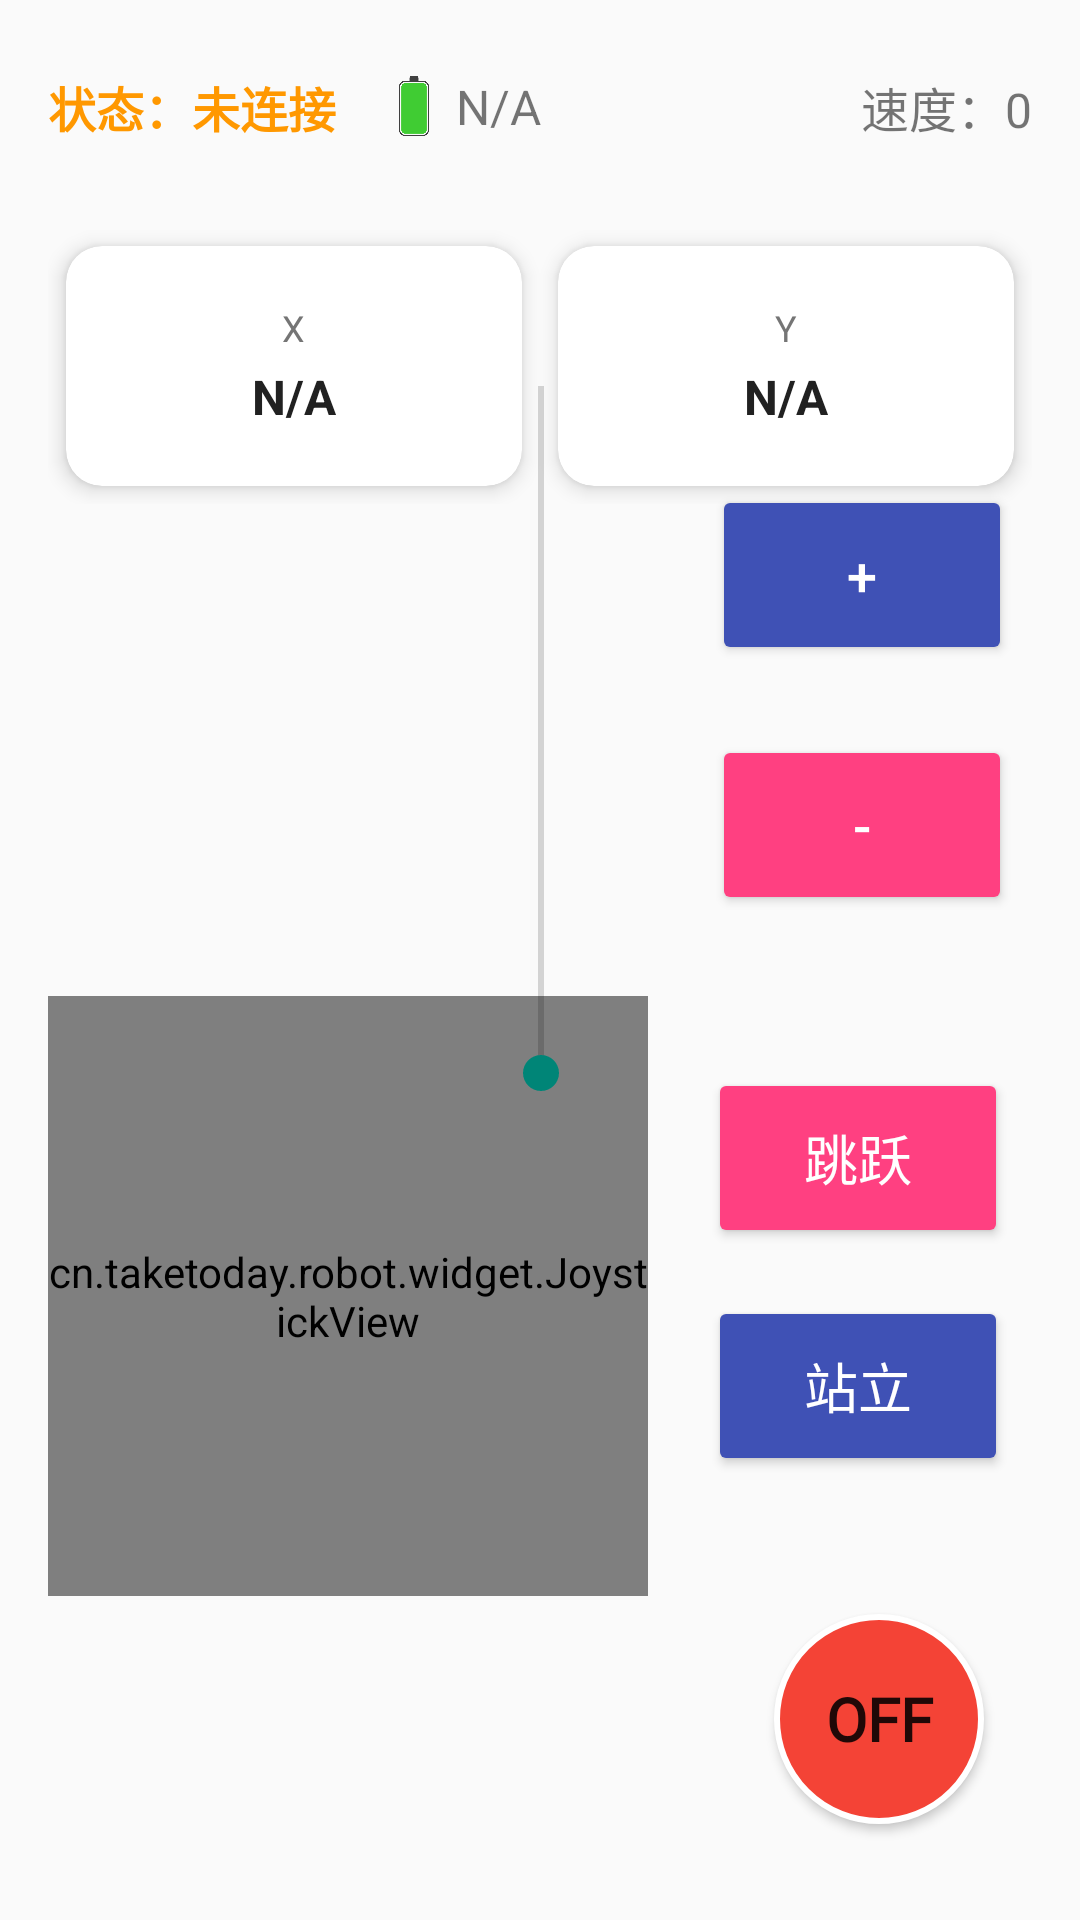

Where to tap for icons on this 1080×1920 app screen, as point (x, y):
battery: point (414, 106)
